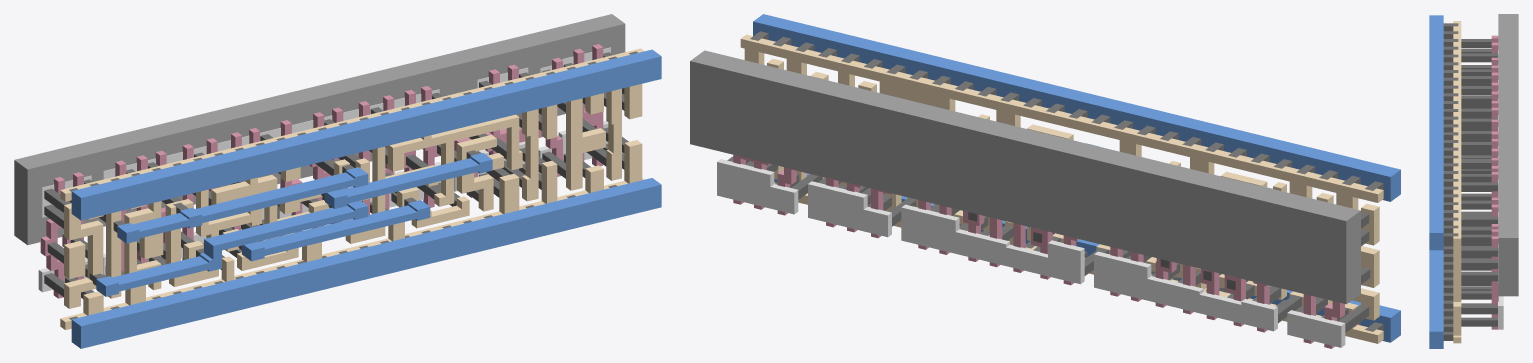
Rendered from sky130_fd_sc_hd__dfbbn_2.gds.gltf.
The picture shows the model from 3 angles, left to right: view 1: azimuth 30°, elevation 25°; view 2: azimuth 150°, elevation 25°; view 3: azimuth 270°, elevation 25°; orthographic projection. The views are drawn at different scales.
Parts seen in each view (by area): view 1: sky130_fd_sc_hd__dfbbn_2_met1, sky130_fd_sc_hd__dfbbn_2_li1, sky130_fd_sc_hd__dfbbn_2_nwell, sky130_fd_sc_hd__dfbbn_2_poly, sky130_fd_sc_hd__dfbbn_2_licon, sky130_fd_sc_hd__dfbbn_2_diff, sky130_fd_sc_hd__dfbbn_2_mcon; view 2: sky130_fd_sc_hd__dfbbn_2_nwell, sky130_fd_sc_hd__dfbbn_2_diff, sky130_fd_sc_hd__dfbbn_2_li1, sky130_fd_sc_hd__dfbbn_2_met1, sky130_fd_sc_hd__dfbbn_2_poly, sky130_fd_sc_hd__dfbbn_2_licon, sky130_fd_sc_hd__dfbbn_2_mcon; view 3: sky130_fd_sc_hd__dfbbn_2_licon, sky130_fd_sc_hd__dfbbn_2_nwell, sky130_fd_sc_hd__dfbbn_2_met1, sky130_fd_sc_hd__dfbbn_2_mcon, sky130_fd_sc_hd__dfbbn_2_li1, sky130_fd_sc_hd__dfbbn_2_poly, sky130_fd_sc_hd__dfbbn_2_diff.
Part boxes in pixels (x1,y1,x2,y2): sky130_fd_sc_hd__dfbbn_2_met1: [71, 49, 661, 348]; sky130_fd_sc_hd__dfbbn_2_li1: [60, 48, 644, 329]; sky130_fd_sc_hd__dfbbn_2_nwell: [14, 14, 625, 245]; sky130_fd_sc_hd__dfbbn_2_poly: [40, 44, 603, 298]; sky130_fd_sc_hd__dfbbn_2_licon: [44, 52, 628, 298]; sky130_fd_sc_hd__dfbbn_2_diff: [38, 47, 610, 292]; sky130_fd_sc_hd__dfbbn_2_mcon: [69, 51, 637, 319]; sky130_fd_sc_hd__dfbbn_2_nwell: [690, 50, 1360, 304]; sky130_fd_sc_hd__dfbbn_2_diff: [717, 159, 1345, 347]; sky130_fd_sc_hd__dfbbn_2_li1: [740, 34, 1383, 343]; sky130_fd_sc_hd__dfbbn_2_met1: [753, 14, 1400, 342]; sky130_fd_sc_hd__dfbbn_2_poly: [733, 155, 1344, 348]; sky130_fd_sc_hd__dfbbn_2_licon: [727, 93, 1370, 332]; sky130_fd_sc_hd__dfbbn_2_mcon: [750, 31, 1383, 331]; sky130_fd_sc_hd__dfbbn_2_licon: [1461, 39, 1497, 326]; sky130_fd_sc_hd__dfbbn_2_nwell: [1498, 14, 1518, 296]; sky130_fd_sc_hd__dfbbn_2_met1: [1429, 15, 1443, 348]; sky130_fd_sc_hd__dfbbn_2_mcon: [1443, 23, 1458, 340]; sky130_fd_sc_hd__dfbbn_2_li1: [1453, 21, 1461, 343]; sky130_fd_sc_hd__dfbbn_2_poly: [1491, 35, 1498, 329]; sky130_fd_sc_hd__dfbbn_2_diff: [1498, 50, 1503, 329].
Size of the model in its own units: 13.26 by 3.2 by 2.24.
